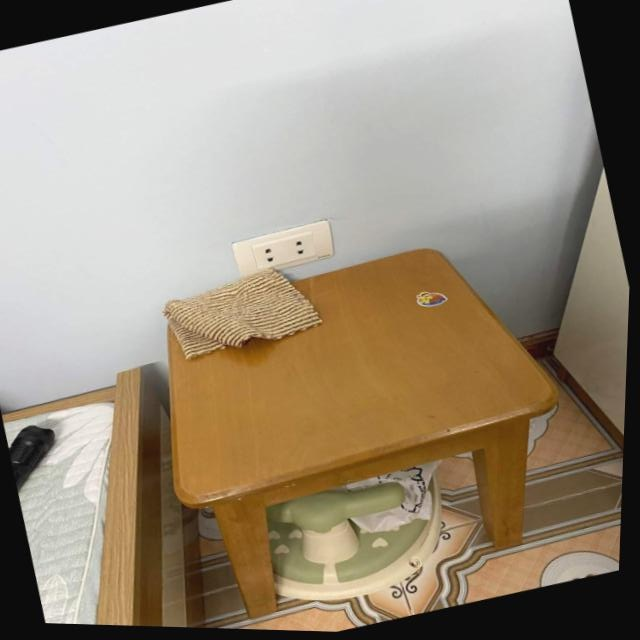outlet: (230, 215, 340, 282)
